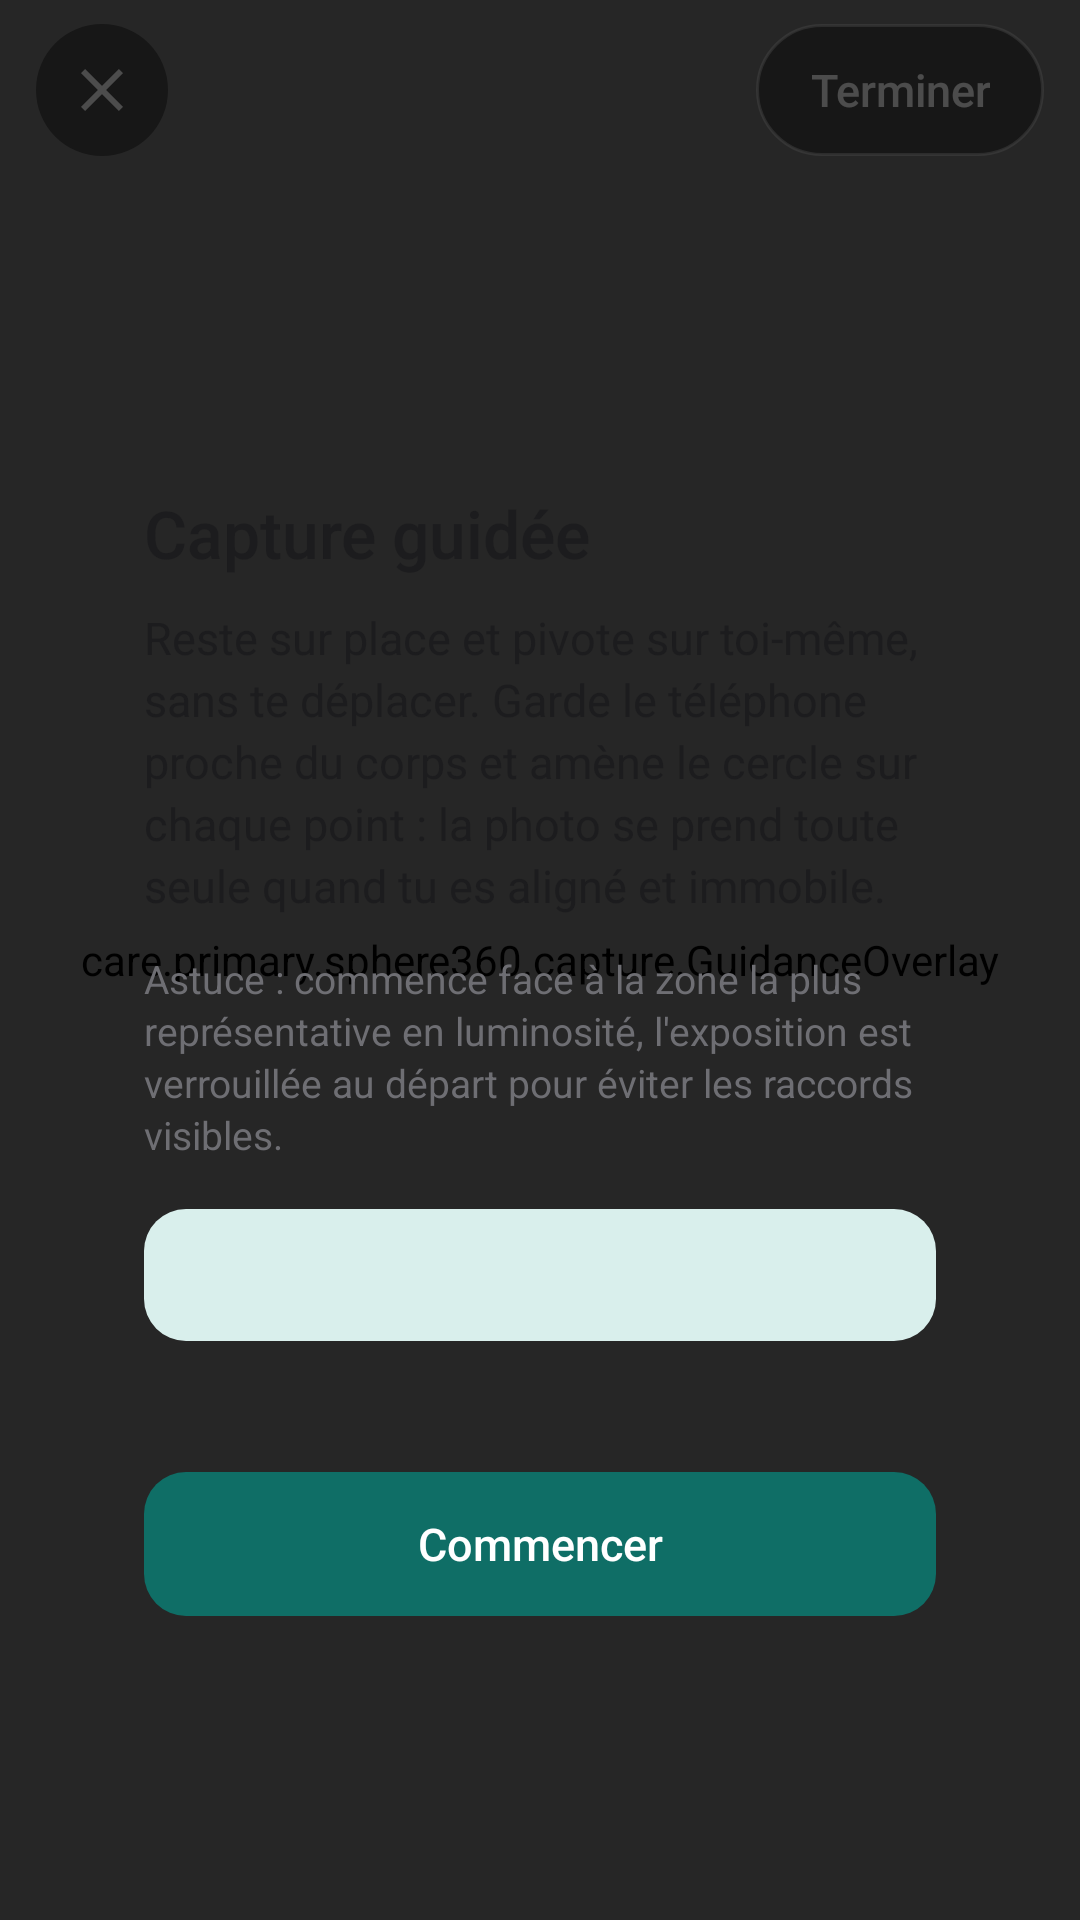

Icons on this 1080w x 1920h Android screen, each with the point to tap as (x=x, y=y):
Annuler: (x=102, y=90)
